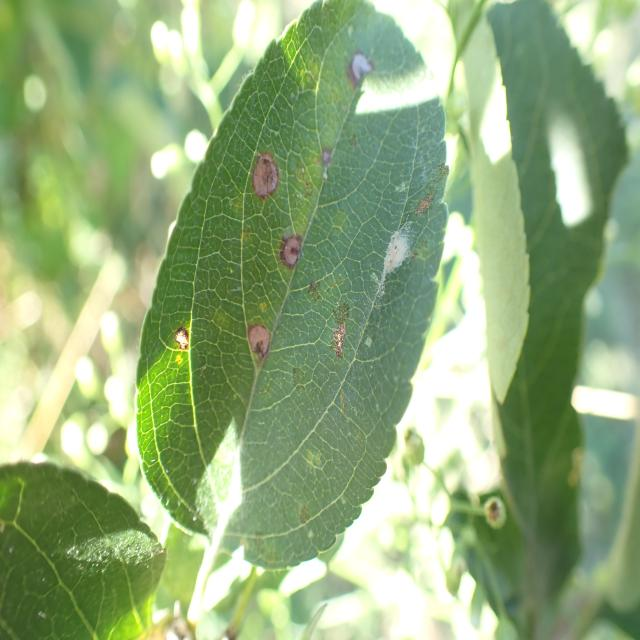frog-eye-leaf-spot: (135, 0, 449, 571)
